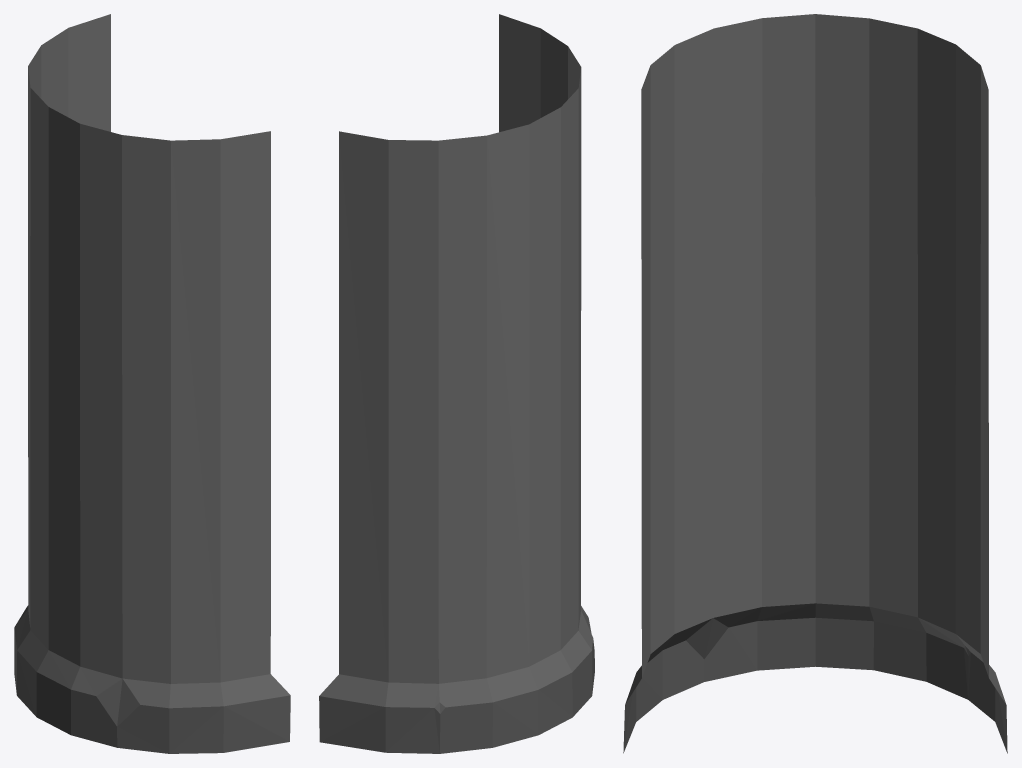
Rendered from SFI_SOven_Prop.fbx.
3 views of the same model, side by side, from view 1: azimuth 30°, elevation 25°; view 2: azimuth 150°, elevation 25°; view 3: azimuth 270°, elevation 25° (orthographic). The views are drawn at different scales.
Visible parts, largest first — view 1: SFI_SOven_Prop; view 2: SFI_SOven_Prop; view 3: SFI_SOven_Prop.
Boxes of the visible parts, left/top/right/bottom form: SFI_SOven_Prop: left=14, top=14, right=290, bottom=753; SFI_SOven_Prop: left=319, top=14, right=594, bottom=753; SFI_SOven_Prop: left=623, top=14, right=1007, bottom=753.
Bounding box in the file's own units: 85.93 × 300 × 159.
